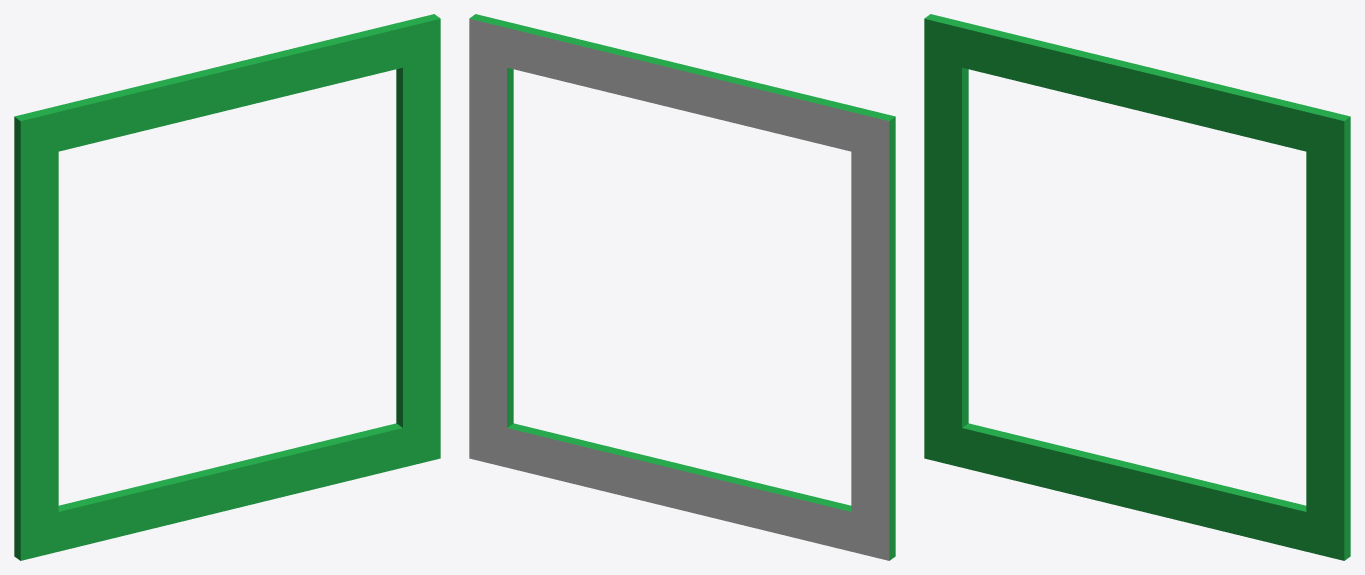
Rendered from frame.obj.
The picture shows the model from 3 angles, left to right: view 1: azimuth 30°, elevation 25°; view 2: azimuth 150°, elevation 25°; view 3: azimuth 330°, elevation 25°; orthographic projection.
Visible parts, largest first — view 1: Object.1; view 2: Object.1; view 3: Object.1.
Boxes of the visible parts, x1,y1,x2,y2 form: Object.1: (14,14,440,560); Object.1: (469,14,895,560); Object.1: (924,14,1350,560).
Bounding box in the file's own units: 40 × 40 × 1.06.
